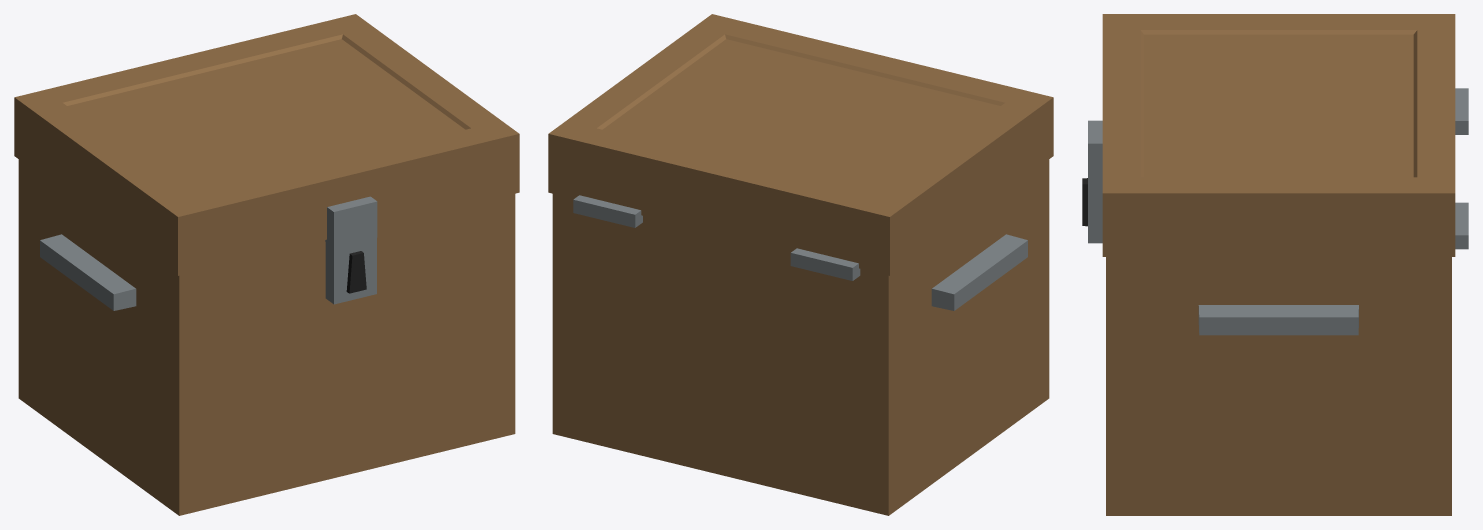
File: SM_Treasure_Chest_01_A.fbx
The picture shows the model from 3 angles, left to right: view 1: azimuth 30°, elevation 25°; view 2: azimuth 150°, elevation 25°; view 3: azimuth 270°, elevation 25°; orthographic projection. The views are drawn at different scales.
Parts seen in each view (by area): view 1: pCube785; view 2: pCube785; view 3: pCube785.
Part boxes in pixels (box(x1,y1,x2,y2)): pCube785: box(14, 14, 519, 515); pCube785: box(548, 14, 1053, 515); pCube785: box(1082, 14, 1468, 515).
Size of the model in its own units: 65.65 by 49.59 by 53.57.
1 material, 1 textured.
